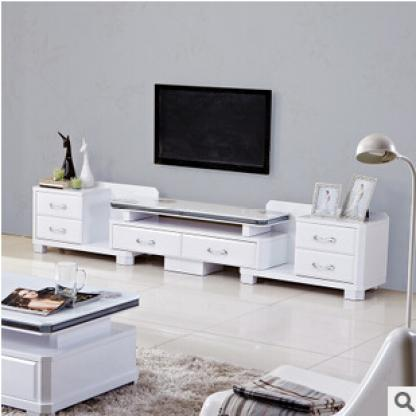TV stand: (34, 174, 392, 299)
